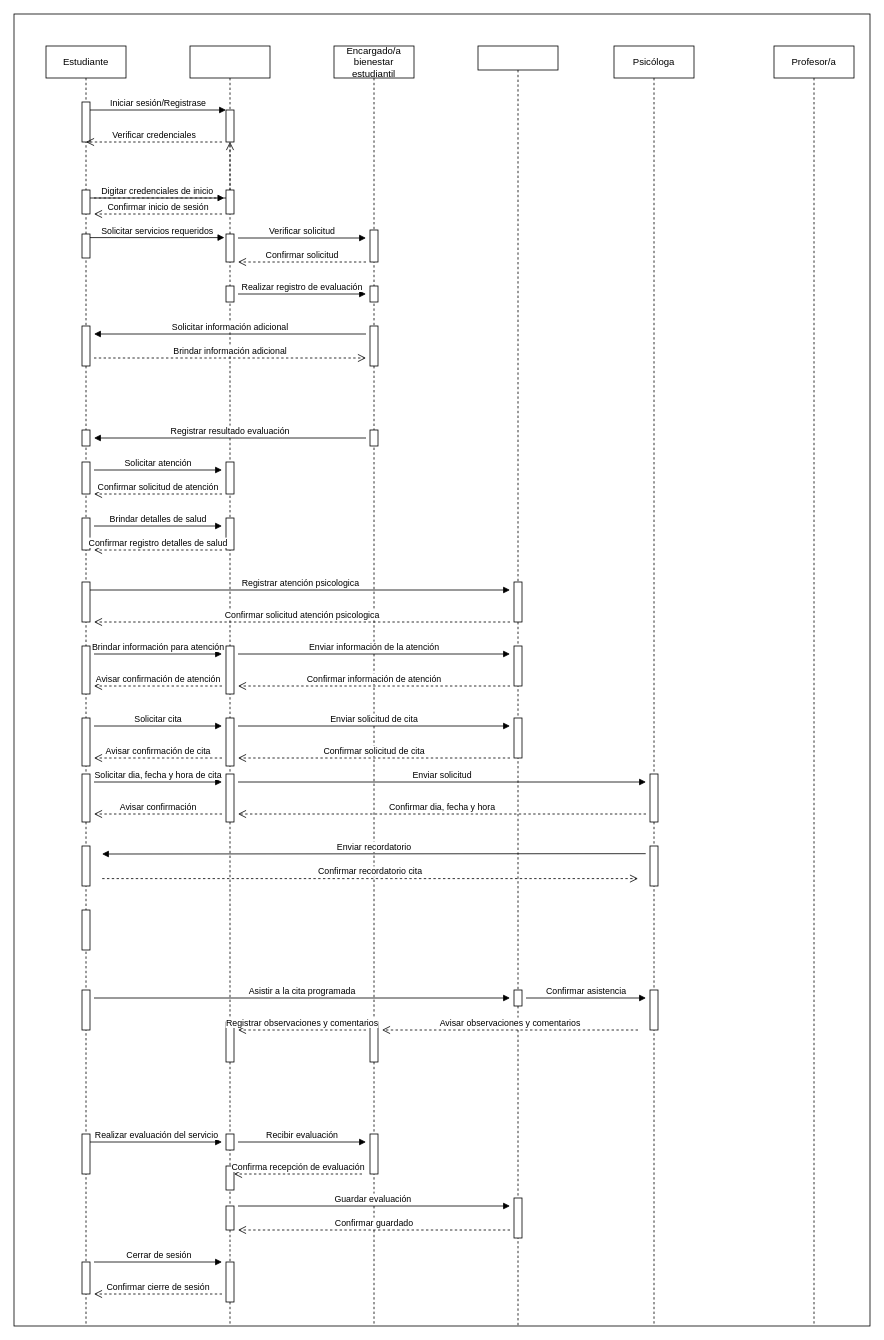
Some shapes in this 884 by 1340 pixel diagram are drawn without their labels. Each missing label, with the centre of its shape:
"BD" goes at point 517,685.
"Sistema" goes at point 229,685.
